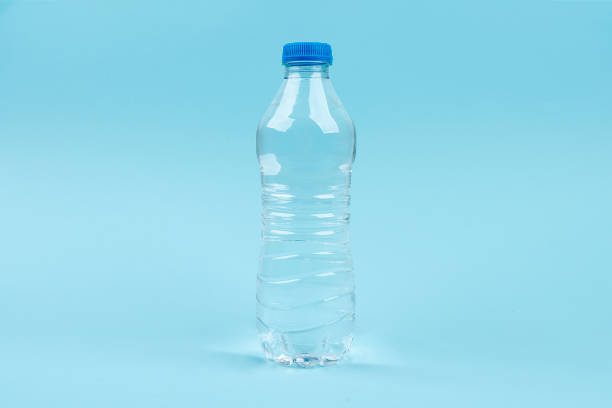HDPE Cap: (282, 42, 332, 64)
PET Bottle: (254, 40, 358, 370)
